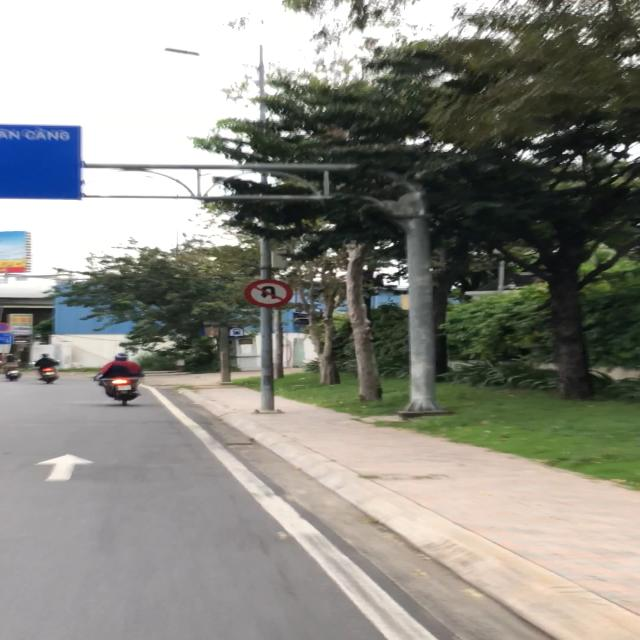Bien bao cam quay dau xe: (241, 277, 297, 308)
